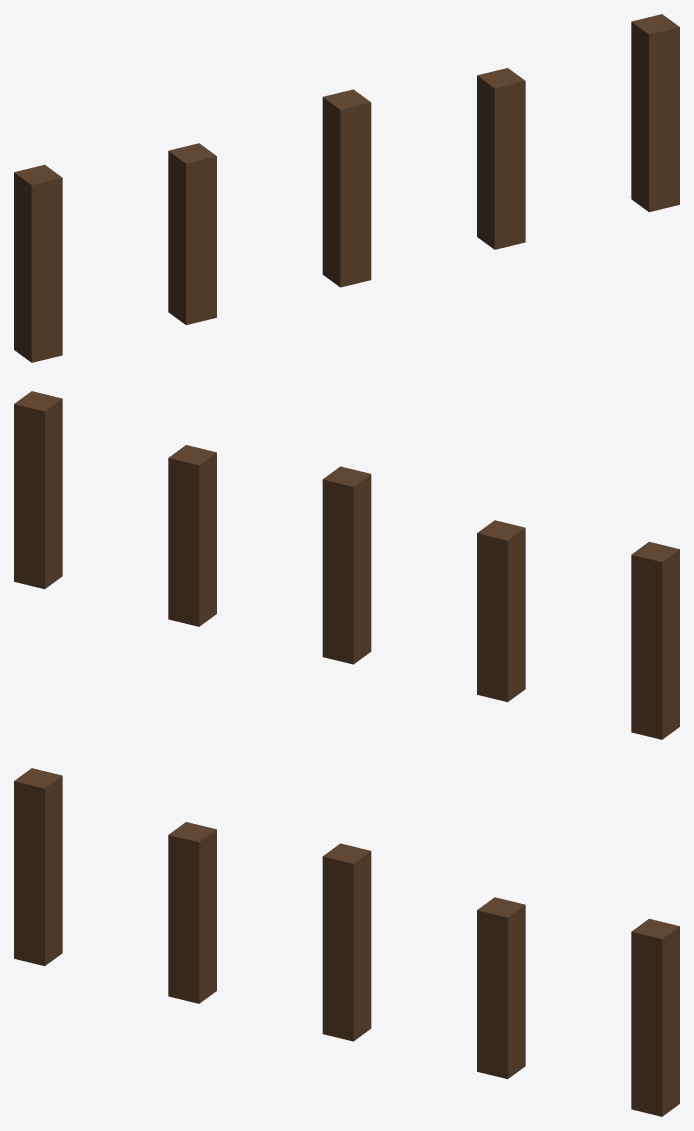
File: fence_wood.glb
3 views of the same model, one above another, from view 1: azimuth 30°, elevation 25°; view 2: azimuth 150°, elevation 25°; view 3: azimuth 330°, elevation 25° (orthographic).
Visible parts, largest first — view 1: Model; view 2: Model; view 3: Model.
Boxes of the visible parts, box(x1,y1,x2,y2) form: Model: box(14, 14, 679, 362); Model: box(14, 391, 679, 739); Model: box(14, 768, 679, 1116).
Size of the model in its own units: 4.2 by 1.1 by 0.2.
